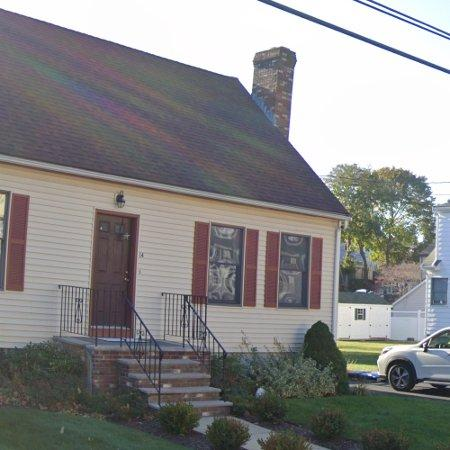chimneys: (252, 46, 297, 139)
